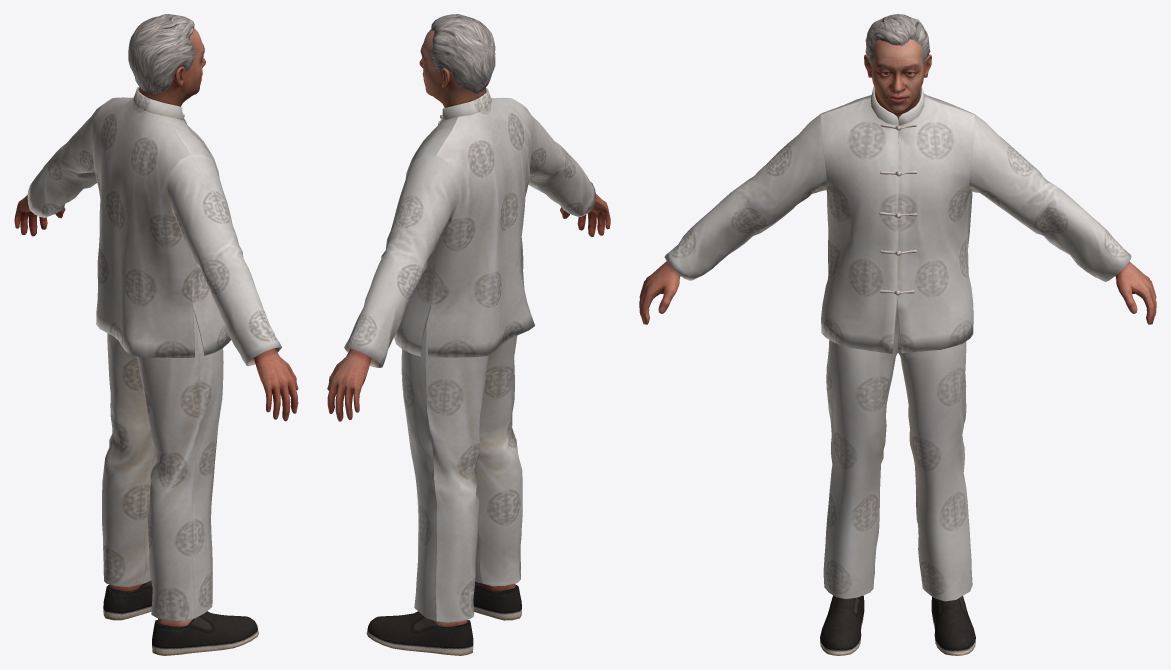
File: sm_laoyeye_web.fbx
3 renders of one model, left to right at view 1: azimuth 30°, elevation 25°; view 2: azimuth 150°, elevation 25°; view 3: azimuth 270°, elevation 25°, orthographic.
Visible parts, largest first — view 1: sm_laoyeye_web; view 2: sm_laoyeye_web; view 3: sm_laoyeye_web.
Part boxes in pixels (x1,y1,x2,y2): sm_laoyeye_web: [14, 14, 298, 655]; sm_laoyeye_web: [327, 14, 610, 655]; sm_laoyeye_web: [639, 14, 1156, 655].
Bounding box in the file's own units: 0.3657 × 1.82 × 1.4.
2 materials, 2 textured.
